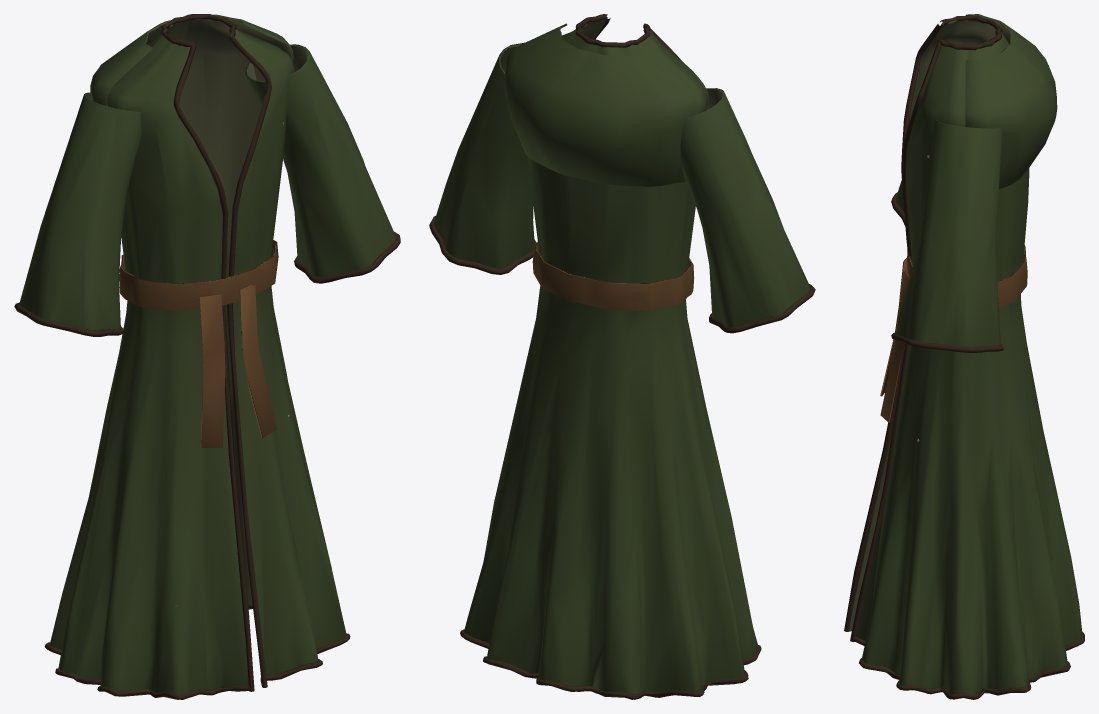
3 views of the same model, side by side, from view 1: azimuth 30°, elevation 25°; view 2: azimuth 150°, elevation 25°; view 3: azimuth 270°, elevation 25° (orthographic).
Visible parts, largest first — view 1: woven wool; view 2: woven wool; view 3: woven wool.
Part boxes in pixels (x1,y1,x2,y2): woven wool: (14, 14, 400, 699); woven wool: (429, 14, 815, 699); woven wool: (844, 14, 1084, 699).
Bounding box in the file's own units: 0.8667 × 1.42 × 0.5044.
